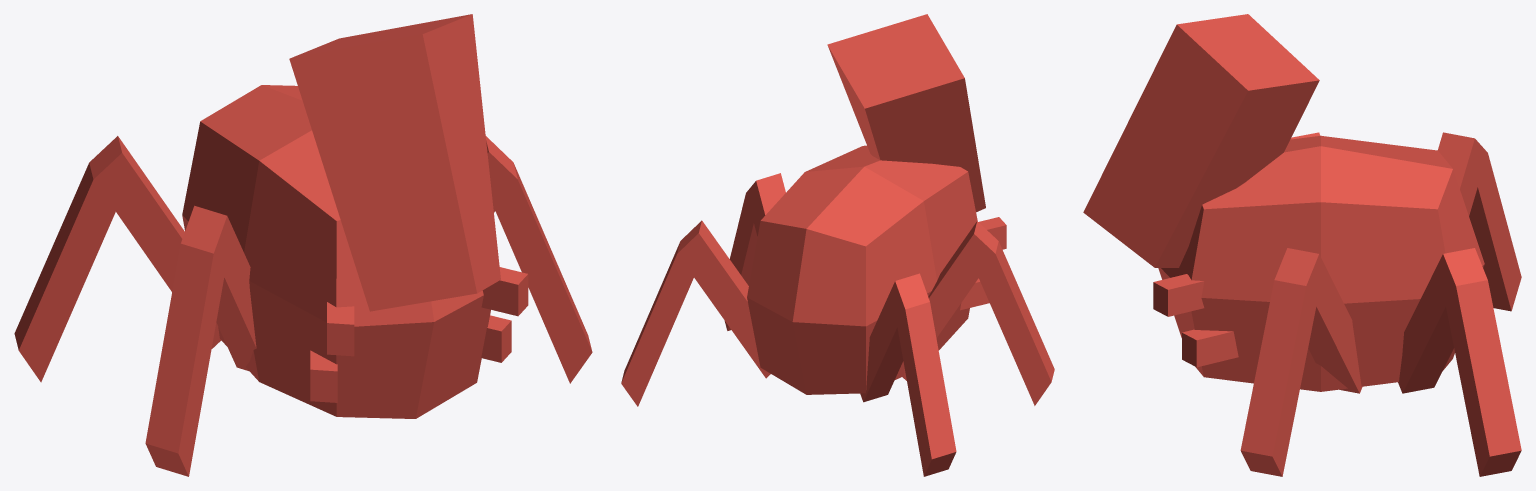
The model's file is araña alpha.fbx.
The picture shows the model from 3 angles, left to right: view 1: azimuth 30°, elevation 25°; view 2: azimuth 150°, elevation 25°; view 3: azimuth 270°, elevation 25°; orthographic projection. The views are drawn at different scales.
Visible parts, largest first — view 1: Cube.011; view 2: Cube.011; view 3: Cube.011.
Boxes of the visible parts, x1,y1,x2,y2 form: Cube.011: (14,14,592,476); Cube.011: (621,14,1054,476); Cube.011: (1083,14,1521,476).
Bounding box in the file's own units: 130 × 120 × 130.
